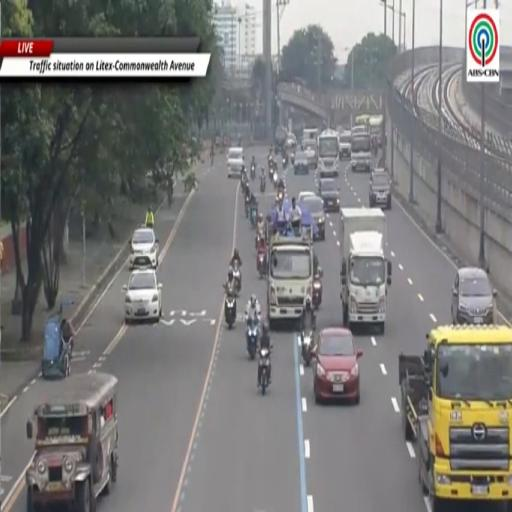car: (312, 328, 362, 404), (451, 267, 497, 325), (123, 269, 162, 323), (129, 228, 158, 269), (299, 197, 325, 241), (369, 169, 391, 209), (319, 179, 339, 212), (227, 148, 244, 178), (303, 140, 317, 169), (294, 151, 309, 174), (339, 131, 351, 159), (298, 191, 317, 202), (351, 125, 368, 136)
jeepney: (26, 373, 118, 511)
motorcycle: (258, 348, 270, 394), (246, 318, 258, 359), (224, 291, 236, 329), (312, 269, 322, 309), (301, 331, 312, 366), (233, 262, 241, 295), (257, 251, 266, 278), (249, 205, 257, 228), (241, 173, 248, 195), (245, 194, 250, 218), (276, 190, 284, 204), (268, 156, 273, 177), (272, 172, 278, 187), (260, 175, 265, 193), (251, 165, 255, 180), (283, 156, 288, 167), (291, 153, 294, 165)
tricycle: (41, 303, 74, 378), (249, 204, 257, 228)
truck: (399, 325, 511, 511), (339, 207, 391, 333), (267, 230, 314, 329), (318, 130, 339, 179), (351, 133, 372, 172), (302, 128, 318, 169), (369, 116, 383, 147), (339, 131, 351, 159)
